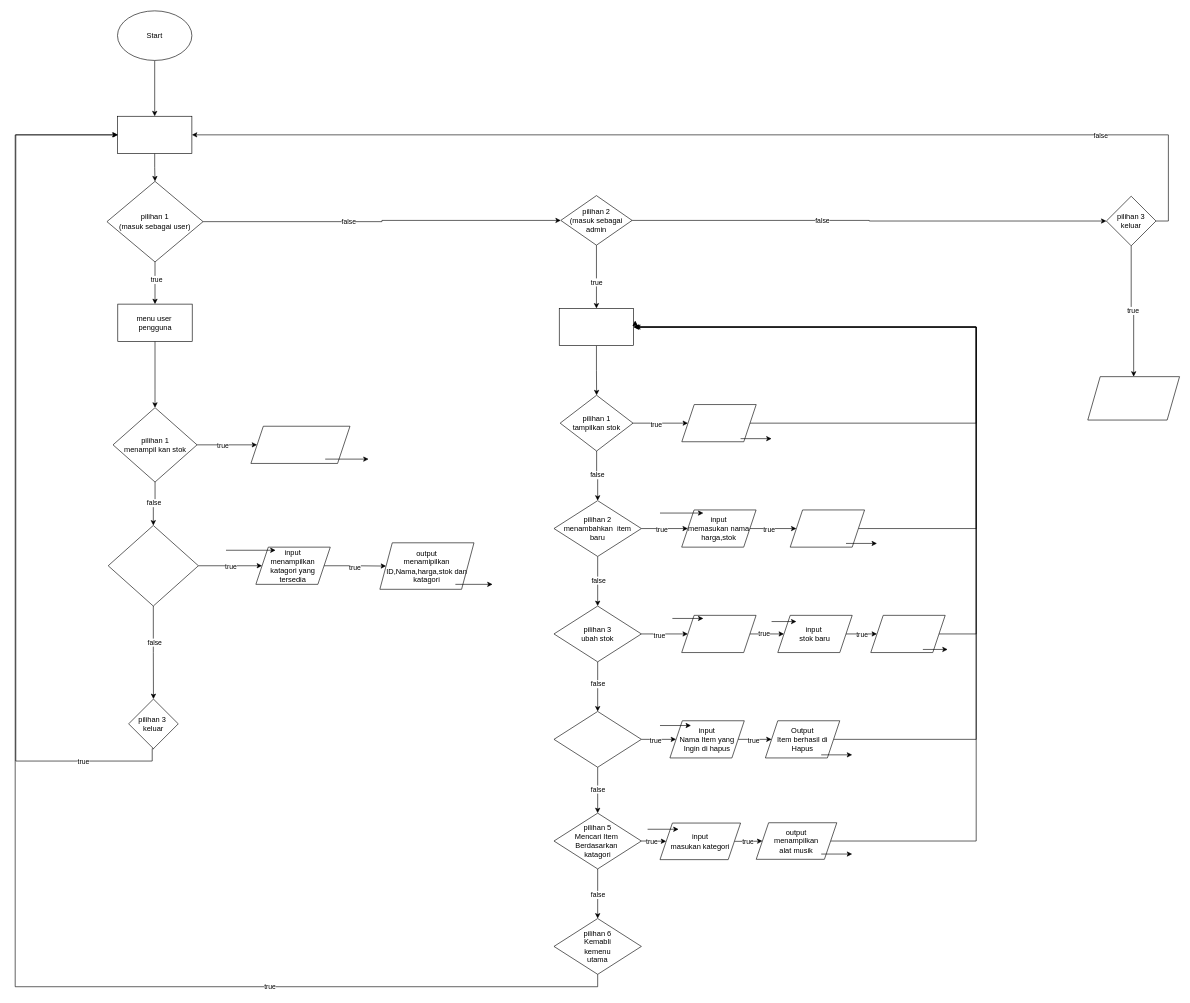
This 1190x1003 diagram has some shape labels left out. The centre of each missing label's shape, as x and y in pixels:
input id item yang ingin di ubah: the point at 718,634
menu admin: the point at 596,327
menu utama pilih role (1-3): the point at 154,134
output item berhasil di tambahkan: the point at 827,528
output menampilkan daftar stok: the point at 718,423
output menampilkan daftar stok alat musk: the point at 300,444
output stok berhasil di ubah: the point at 907,634
pilihan 2 mencari alat musilk berdasarkan katagori: the point at 153,565
pilihan 4 Hapus Item: the point at 597,739
Terima kasih telah mengunjungi Toko Alat Musik!: the point at 1133,398
